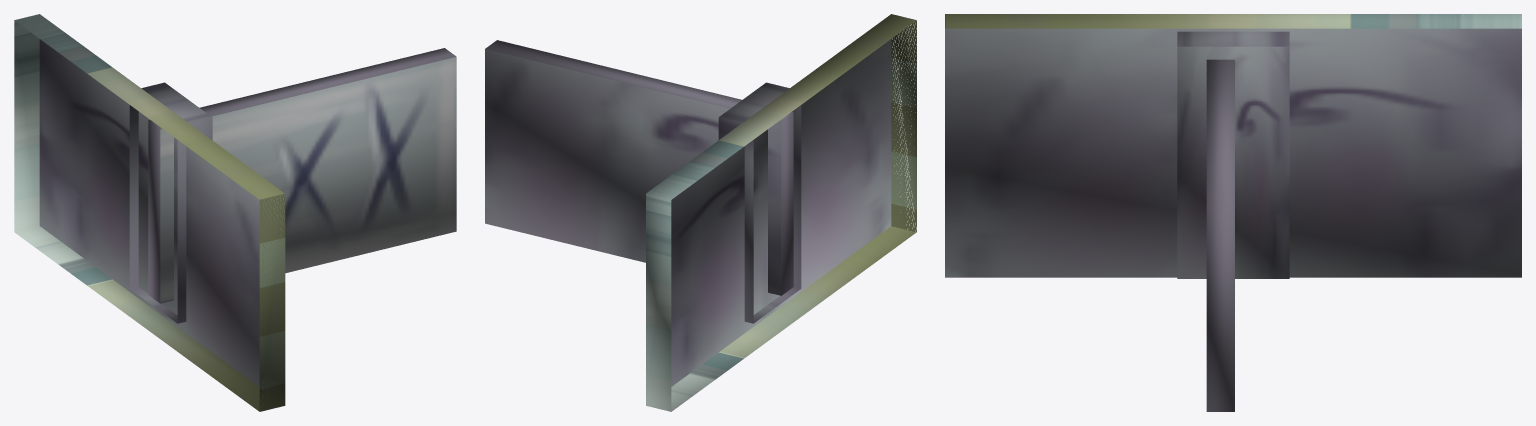
File: Placa.fbx
The picture shows the model from 3 angles, left to right: view 1: azimuth 30°, elevation 25°; view 2: azimuth 150°, elevation 25°; view 3: azimuth 270°, elevation 25°; orthographic projection. The views are drawn at different scales.
Parts seen in each view (by area): view 1: PlacaDoQuarto; view 2: PlacaDoQuarto; view 3: PlacaDoQuarto.
Boxes of the visible parts, x1,y1,x2,y2 form: PlacaDoQuarto: (14,14,456,411); PlacaDoQuarto: (485,14,916,411); PlacaDoQuarto: (945,14,1521,411).
Bounding box in the file's own units: 66.25 × 91.36 × 43.52.
